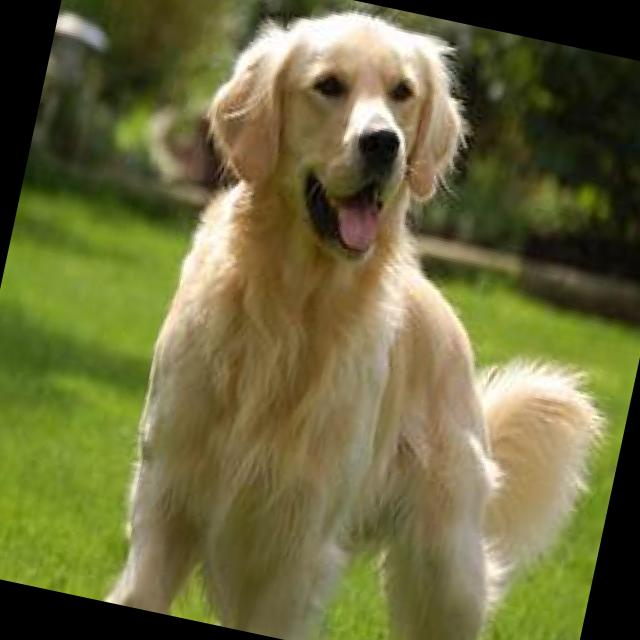animal: (79, 0, 640, 640)
